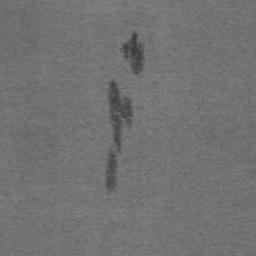Iron scale compression: (108, 78, 134, 148), (123, 32, 145, 76), (107, 152, 118, 195)
